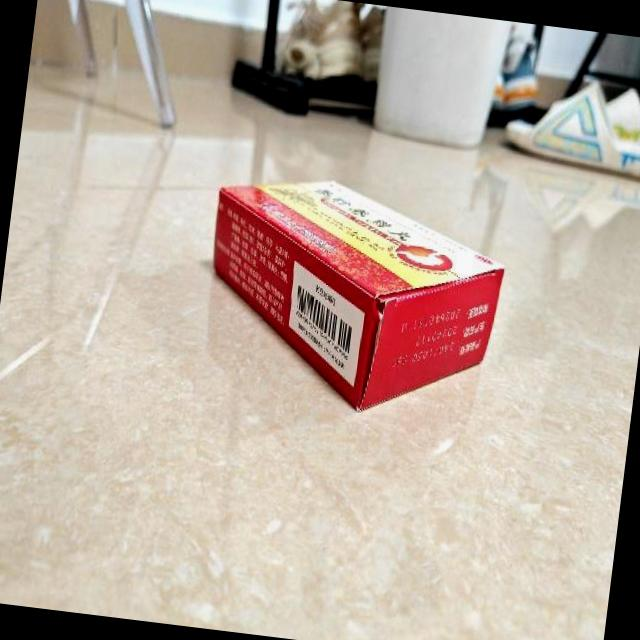box: (194, 165, 512, 427)
